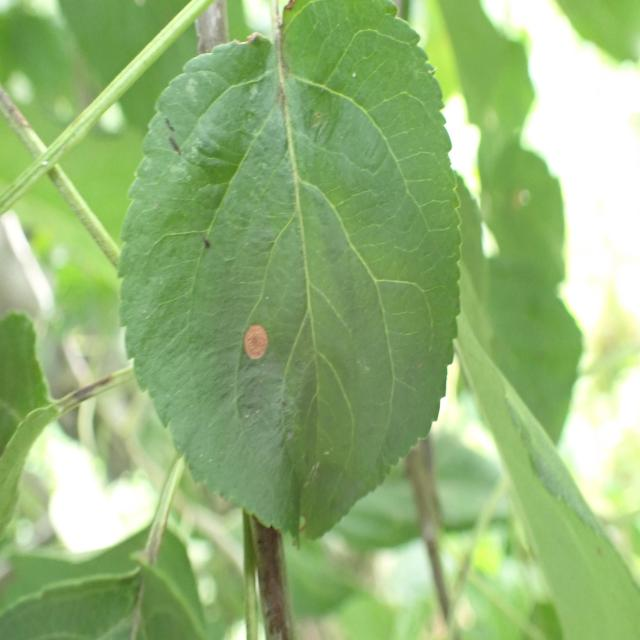Black Rot: (235, 308, 271, 374)
scab: (249, 0, 320, 164)
